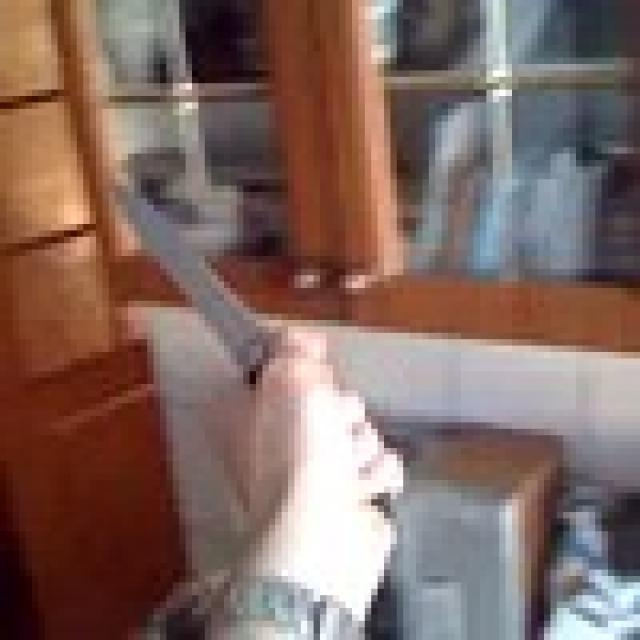Knife: (121, 160, 396, 512)
